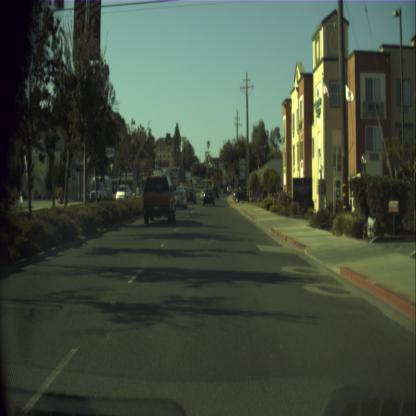Green: (210, 160, 212, 166)
